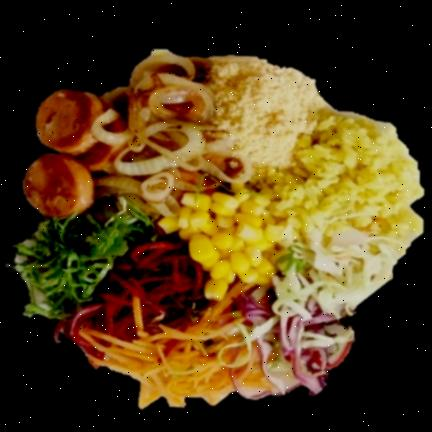carrot: (98, 303, 281, 403)
corn: (158, 180, 300, 300)
rice: (254, 105, 420, 257)
salad: (223, 227, 401, 393)
sausage: (17, 48, 243, 223)
